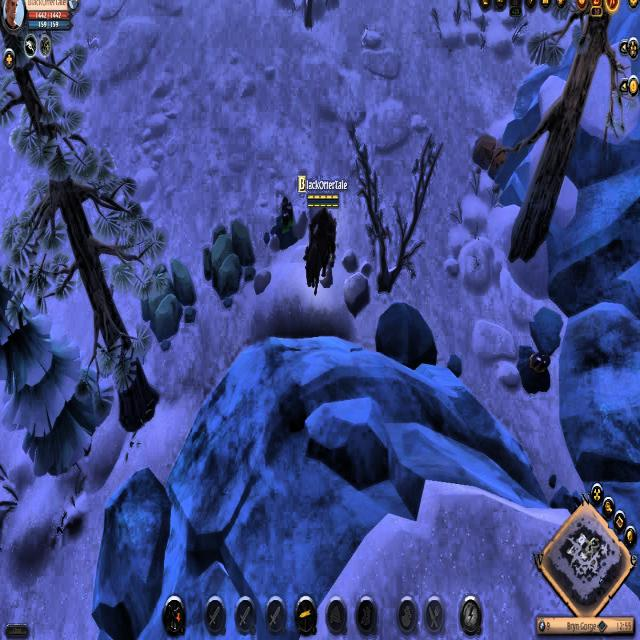copperore: (516, 342, 553, 391)
limestone: (470, 134, 514, 184)
sandstone: (136, 252, 197, 344), (203, 219, 256, 306)
tinore: (268, 193, 298, 250)
